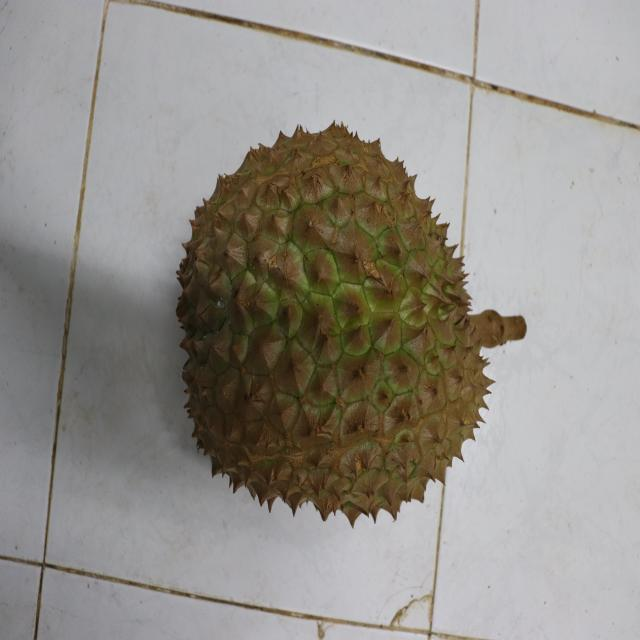mature: (176, 122, 496, 528)
